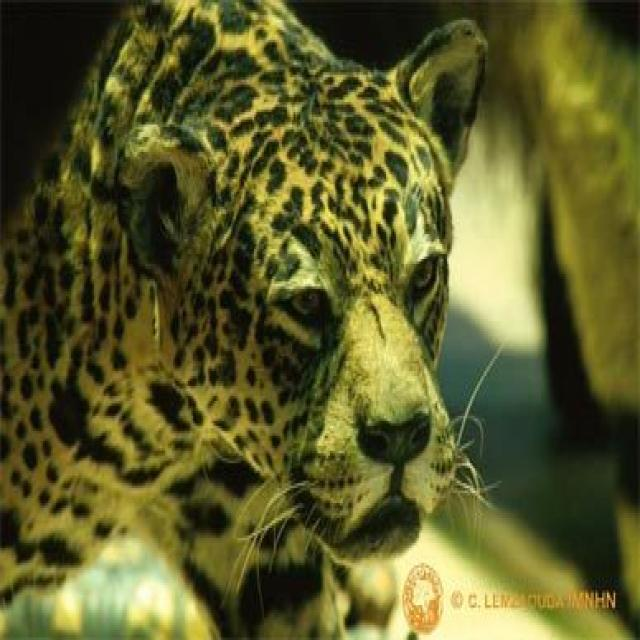Leopard: (0, 0, 487, 635)
